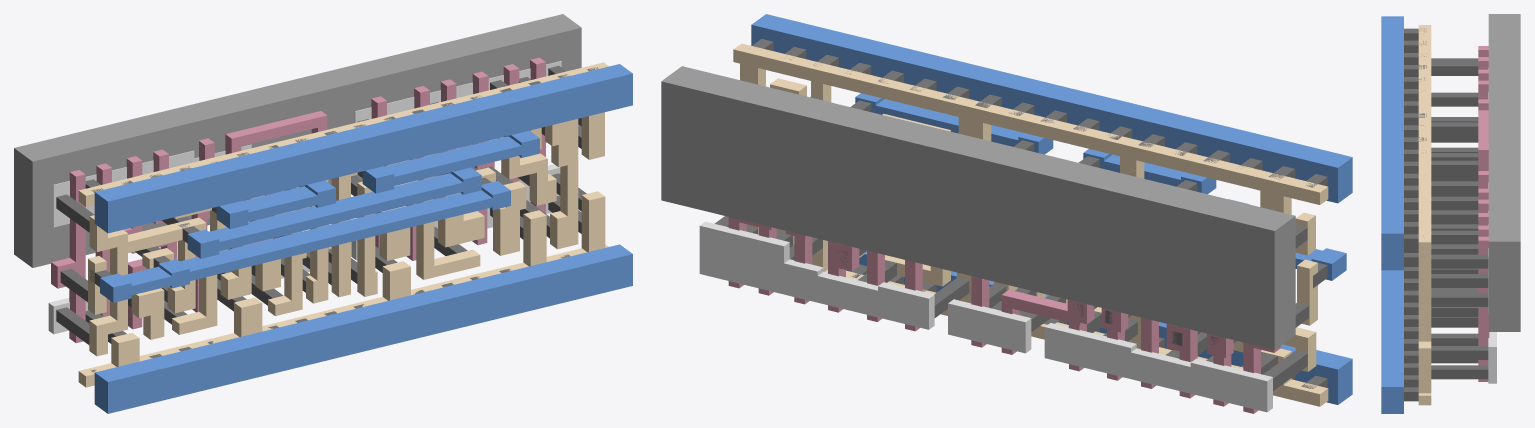
Rendered from sky130_fd_sc_hd__mux4_2.gds.gltf.
The picture shows the model from 3 angles, left to right: view 1: azimuth 30°, elevation 25°; view 2: azimuth 150°, elevation 25°; view 3: azimuth 270°, elevation 25°; orthographic projection. The views are drawn at different scales.
Parts seen in each view (by area): view 1: sky130_fd_sc_hd__mux4_2_met1, sky130_fd_sc_hd__mux4_2_li1, sky130_fd_sc_hd__mux4_2_nwell, sky130_fd_sc_hd__mux4_2_poly, sky130_fd_sc_hd__mux4_2_licon, sky130_fd_sc_hd__mux4_2_diff, sky130_fd_sc_hd__mux4_2_mcon; view 2: sky130_fd_sc_hd__mux4_2_nwell, sky130_fd_sc_hd__mux4_2_met1, sky130_fd_sc_hd__mux4_2_li1, sky130_fd_sc_hd__mux4_2_diff, sky130_fd_sc_hd__mux4_2_poly, sky130_fd_sc_hd__mux4_2_mcon, sky130_fd_sc_hd__mux4_2_licon; view 3: sky130_fd_sc_hd__mux4_2_licon, sky130_fd_sc_hd__mux4_2_nwell, sky130_fd_sc_hd__mux4_2_met1, sky130_fd_sc_hd__mux4_2_mcon, sky130_fd_sc_hd__mux4_2_li1, sky130_fd_sc_hd__mux4_2_poly, sky130_fd_sc_hd__mux4_2_diff.
Boxes of the visible parts, x1,y1,x2,y2 form: sky130_fd_sc_hd__mux4_2_met1: (94, 64, 632, 413); sky130_fd_sc_hd__mux4_2_li1: (78, 62, 608, 387); sky130_fd_sc_hd__mux4_2_nwell: (14, 14, 581, 267); sky130_fd_sc_hd__mux4_2_poly: (51, 57, 545, 343); sky130_fd_sc_hd__mux4_2_licon: (56, 66, 586, 344); sky130_fd_sc_hd__mux4_2_diff: (48, 61, 561, 334); sky130_fd_sc_hd__mux4_2_mcon: (90, 67, 598, 373); sky130_fd_sc_hd__mux4_2_nwell: (661, 66, 1295, 349); sky130_fd_sc_hd__mux4_2_met1: (751, 14, 1352, 404); sky130_fd_sc_hd__mux4_2_li1: (733, 43, 1328, 406); sky130_fd_sc_hd__mux4_2_diff: (699, 221, 1272, 412); sky130_fd_sc_hd__mux4_2_poly: (728, 217, 1281, 413); sky130_fd_sc_hd__mux4_2_mcon: (752, 39, 1327, 388); sky130_fd_sc_hd__mux4_2_licon: (714, 80, 1308, 390); sky130_fd_sc_hd__mux4_2_licon: (1431, 58, 1488, 379); sky130_fd_sc_hd__mux4_2_nwell: (1488, 14, 1520, 331); sky130_fd_sc_hd__mux4_2_met1: (1381, 16, 1403, 413); sky130_fd_sc_hd__mux4_2_mcon: (1404, 28, 1426, 401); sky130_fd_sc_hd__mux4_2_li1: (1418, 25, 1431, 405); sky130_fd_sc_hd__mux4_2_poly: (1478, 46, 1489, 381); sky130_fd_sc_hd__mux4_2_diff: (1488, 68, 1496, 383).
Bounding box in the file's own units: 8.66 × 3.2 × 2.24.
